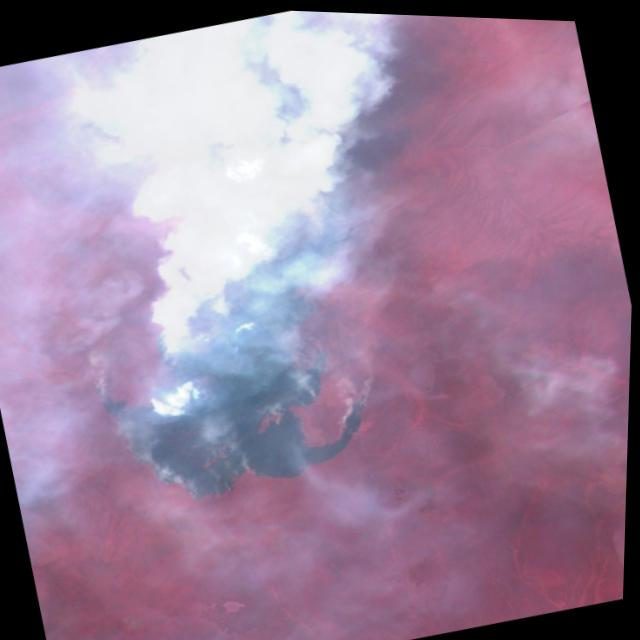fire: (44, 170, 414, 535)
